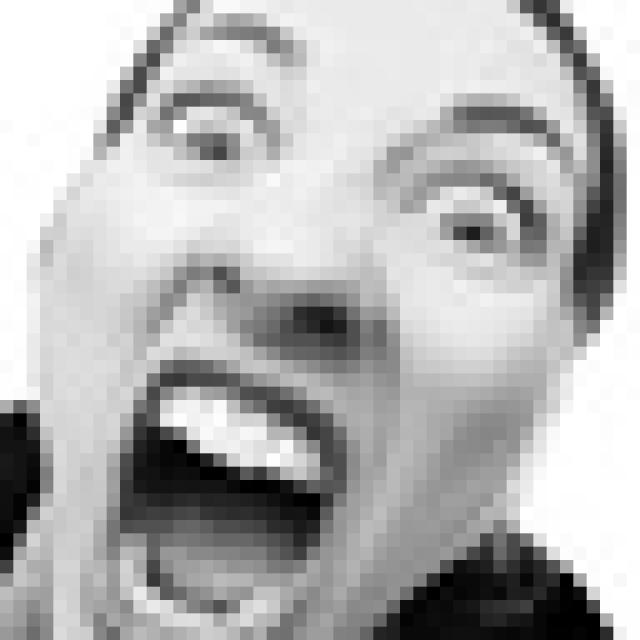angry: (91, 18, 581, 640)
